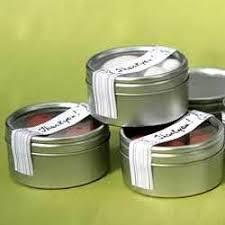Tin: (4, 10, 225, 211)
